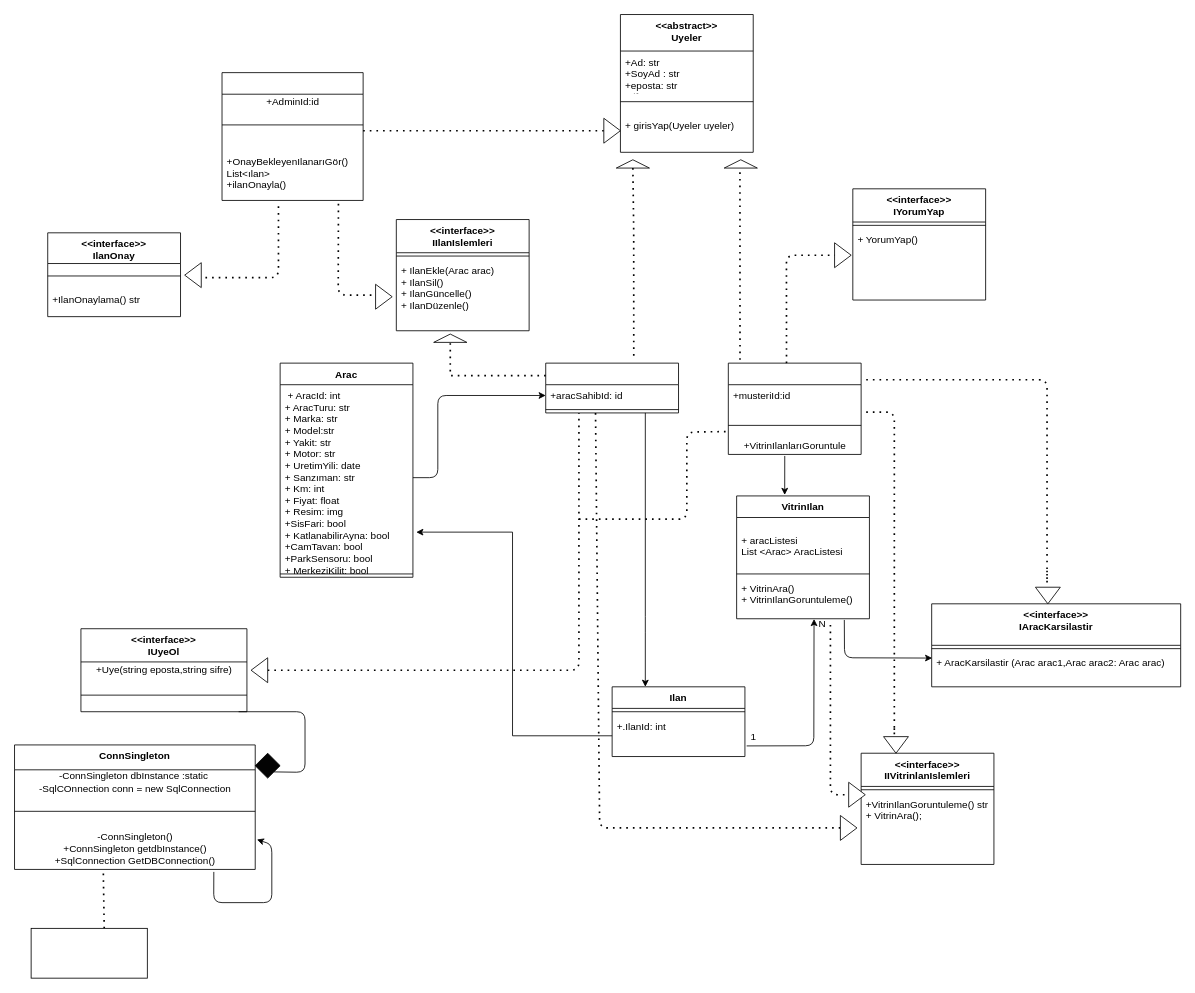
Image size: 1195x993. Some labels were removed from this diagram. Here are the shapes that lost their labels. From the top down, the box of each, then its label:
(221, 72, 363, 200): SistemYöneticisi
(545, 362, 679, 413): Araç Sahibi
(727, 362, 861, 454): Müsteri
(30, 928, 147, 978): return dbInstance
